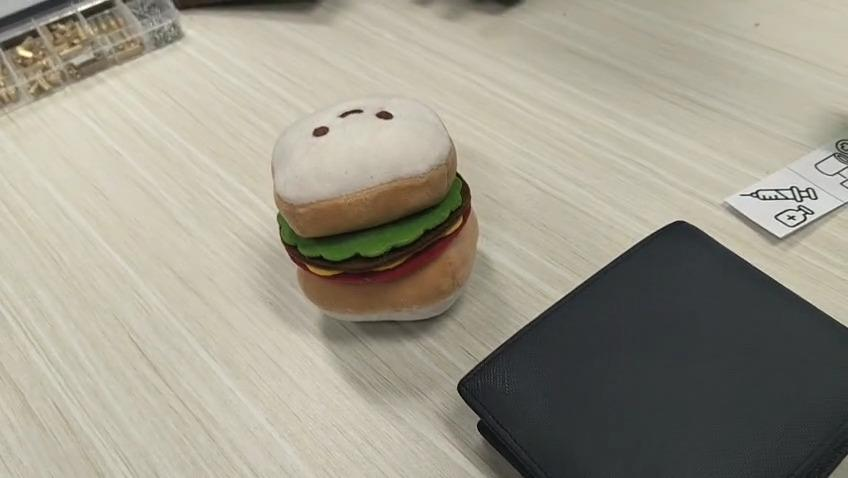objects: (273, 93, 479, 324)
